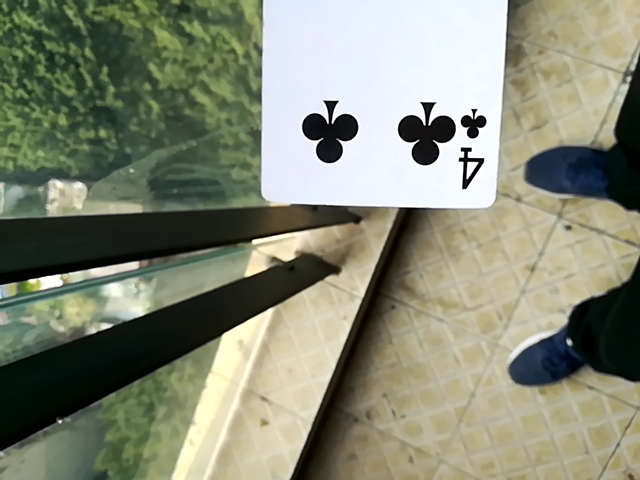mh 4: (246, 0, 509, 218)
